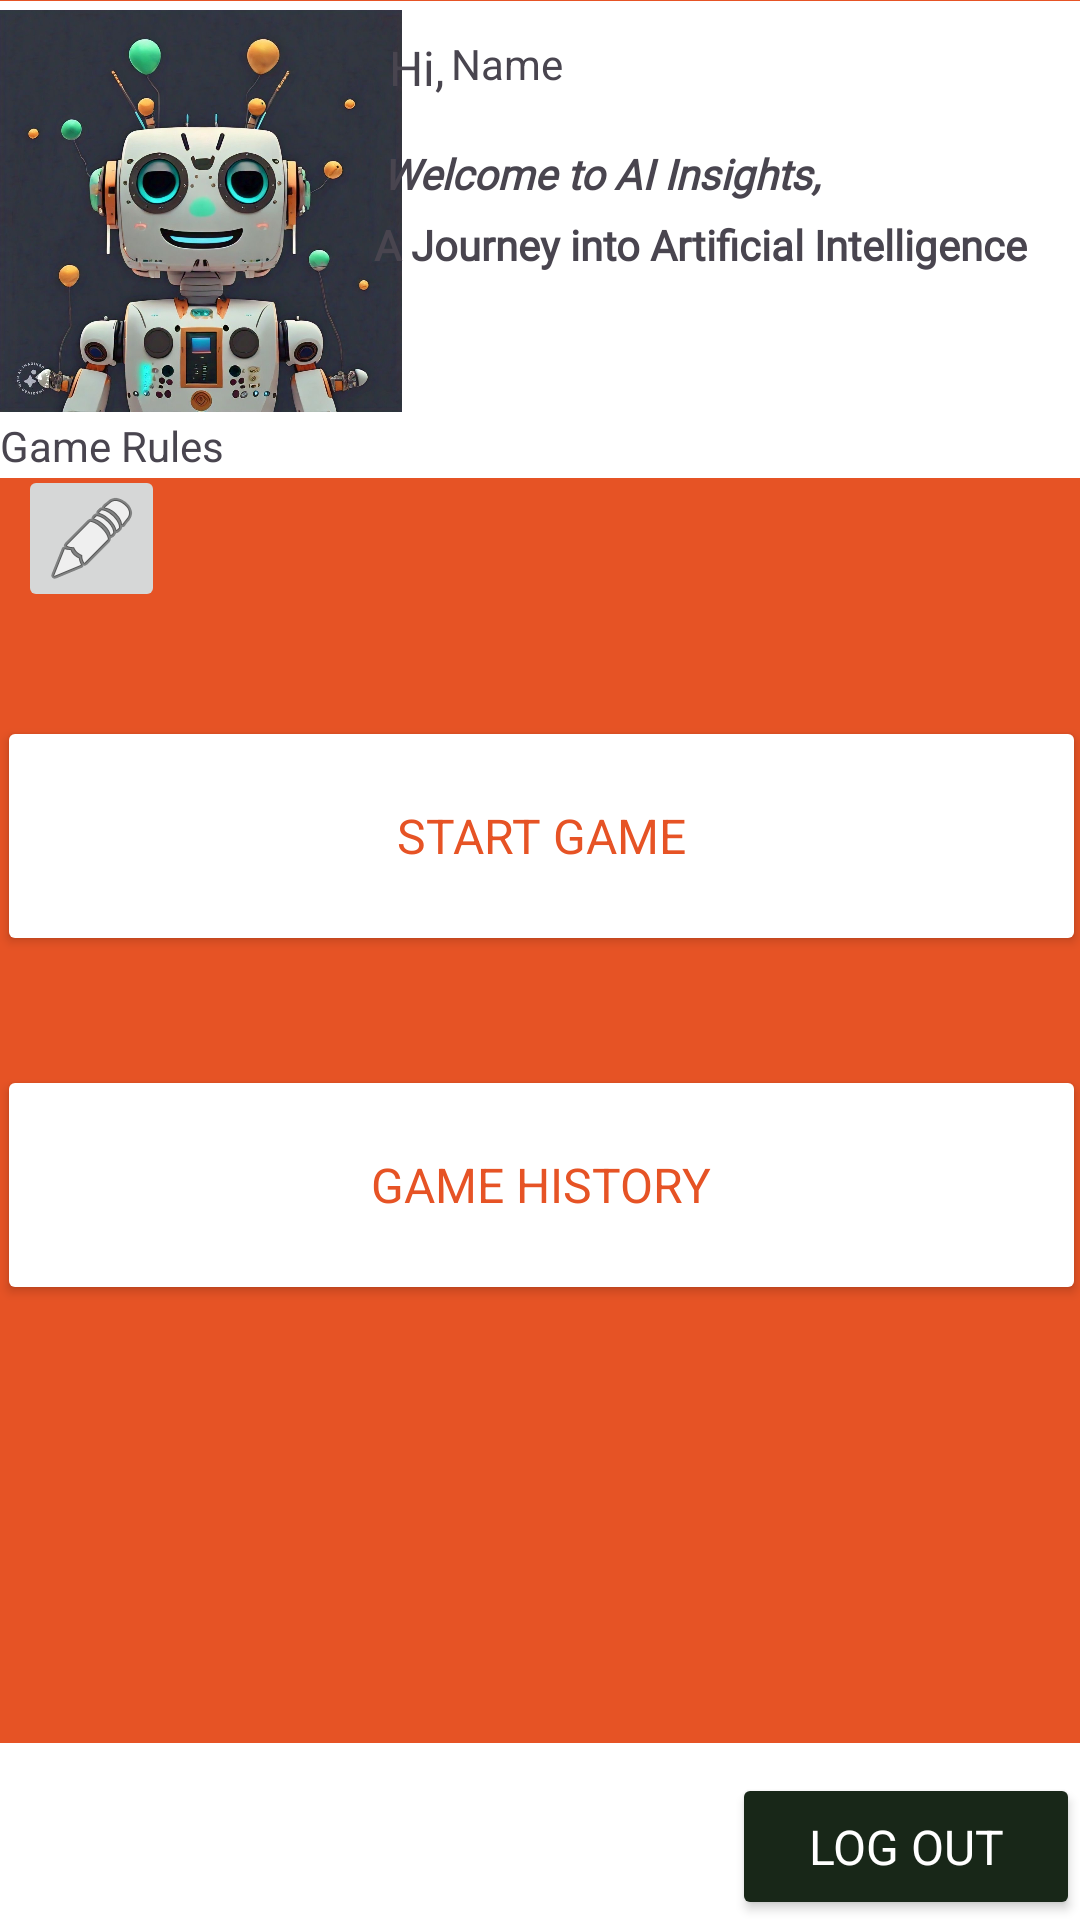

Named icons in this screenshot (1080 × 1920) and their centers, (x,y):
edit: (91,538)
